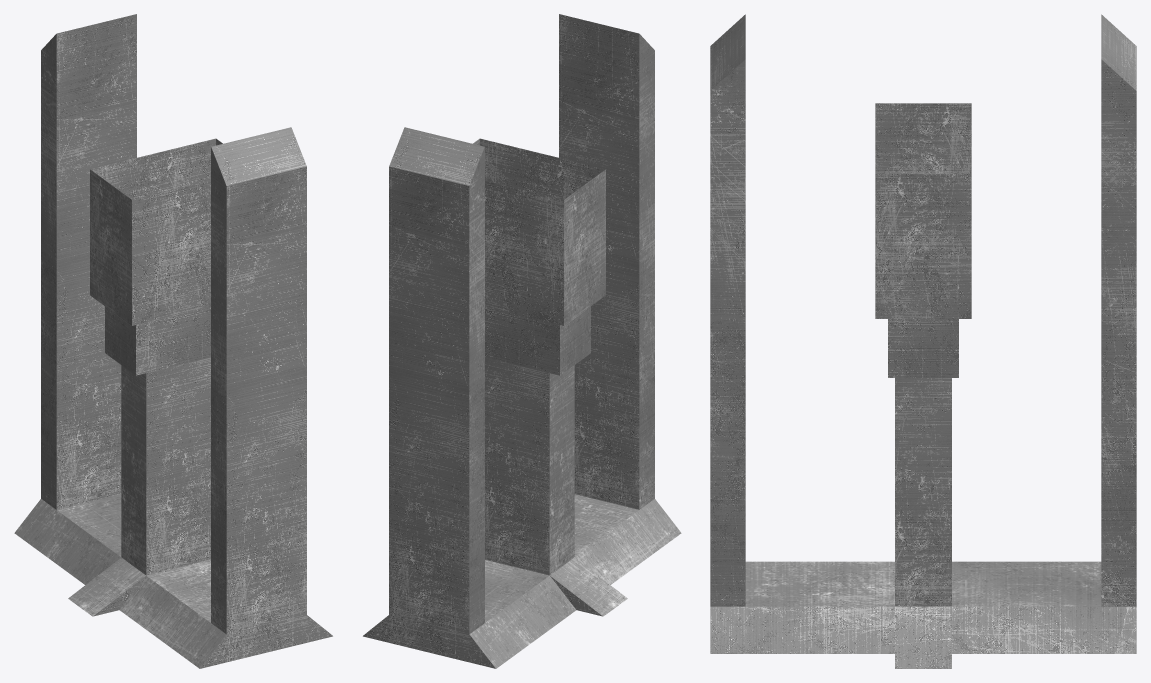
File: AD-2-Body.obj
The picture shows the model from 3 angles, left to right: view 1: azimuth 30°, elevation 25°; view 2: azimuth 150°, elevation 25°; view 3: azimuth 270°, elevation 25°; orthographic projection. The views are drawn at different scales.
Visible parts, largest first — view 1: AD-2-Body; view 2: AD-2-Body; view 3: AD-2-Body.
Boxes of the visible parts, <box> form: AD-2-Body: <box>14,14,332,668</box>; AD-2-Body: <box>363,14,681,668</box>; AD-2-Body: <box>710,14,1136,668</box>.
Size of the model in its own units: 0.35 by 0.9 by 0.6.
